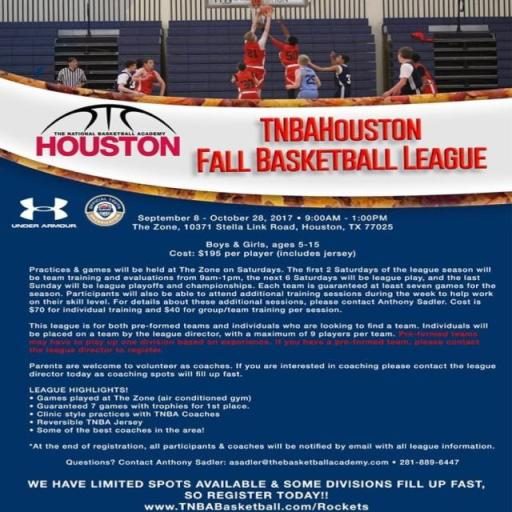Under Armour: (8, 194, 78, 230)
